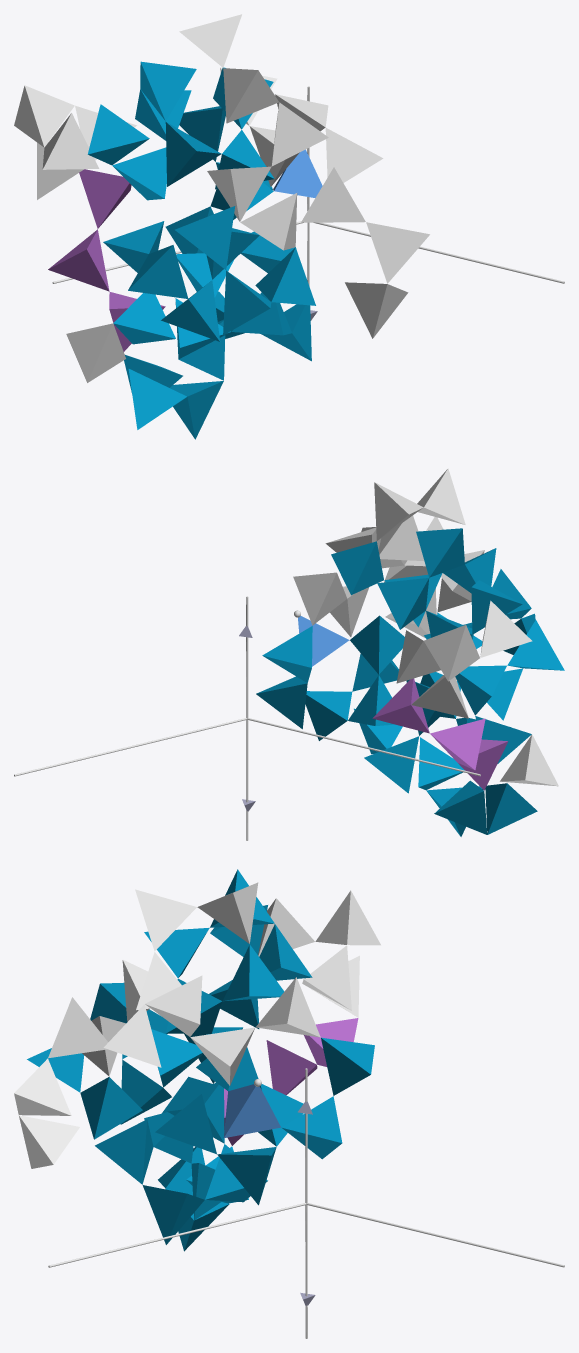
The model's file is Monomer_WithTwoFoldAxis.fbx.
3 views of the same model, one above another, from view 1: azimuth 30°, elevation 25°; view 2: azimuth 150°, elevation 25°; view 3: azimuth 270°, elevation 25° (orthographic). The views are drawn at different scales.
Visible parts, largest first — view 1: Monomer01, Two Fold Axis Mesh 03; view 2: Monomer01, Three Fold Axis, Two Fold Axis Mesh 02, Two Fold Axis Mesh; view 3: Monomer01, Two Fold Axis Mesh 02, Two Fold Axis Mesh 03, Three Fold Axis.
Part boxes in pixels (<box>): Monomer01: <box>14,14,429,439</box>; Two Fold Axis Mesh 03: <box>313,222,564,283</box>; Monomer01: <box>256,468,564,836</box>; Three Fold Axis: <box>246,596,248,840</box>; Two Fold Axis Mesh 02: <box>14,718,247,776</box>; Two Fold Axis Mesh: <box>247,718,480,776</box>; Monomer01: <box>14,869,380,1251</box>; Two Fold Axis Mesh 02: <box>306,1203,564,1267</box>; Two Fold Axis Mesh 03: <box>48,1203,306,1267</box>; Three Fold Axis: <box>305,1068,307,1338</box>.
Bounding box in the file's own units: 372 × 333 × 421.
